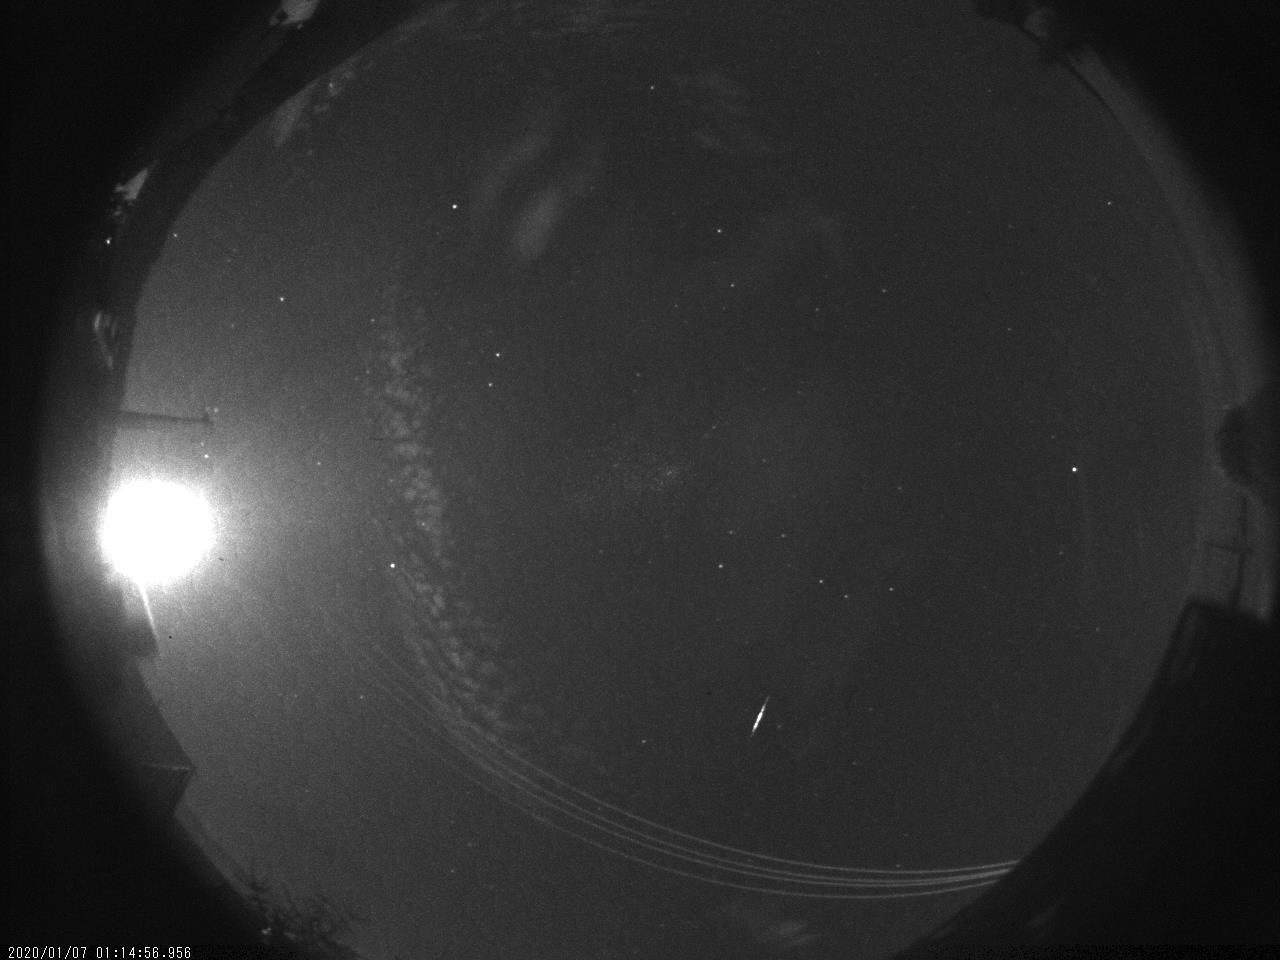Meteor: (742, 684, 779, 749)
